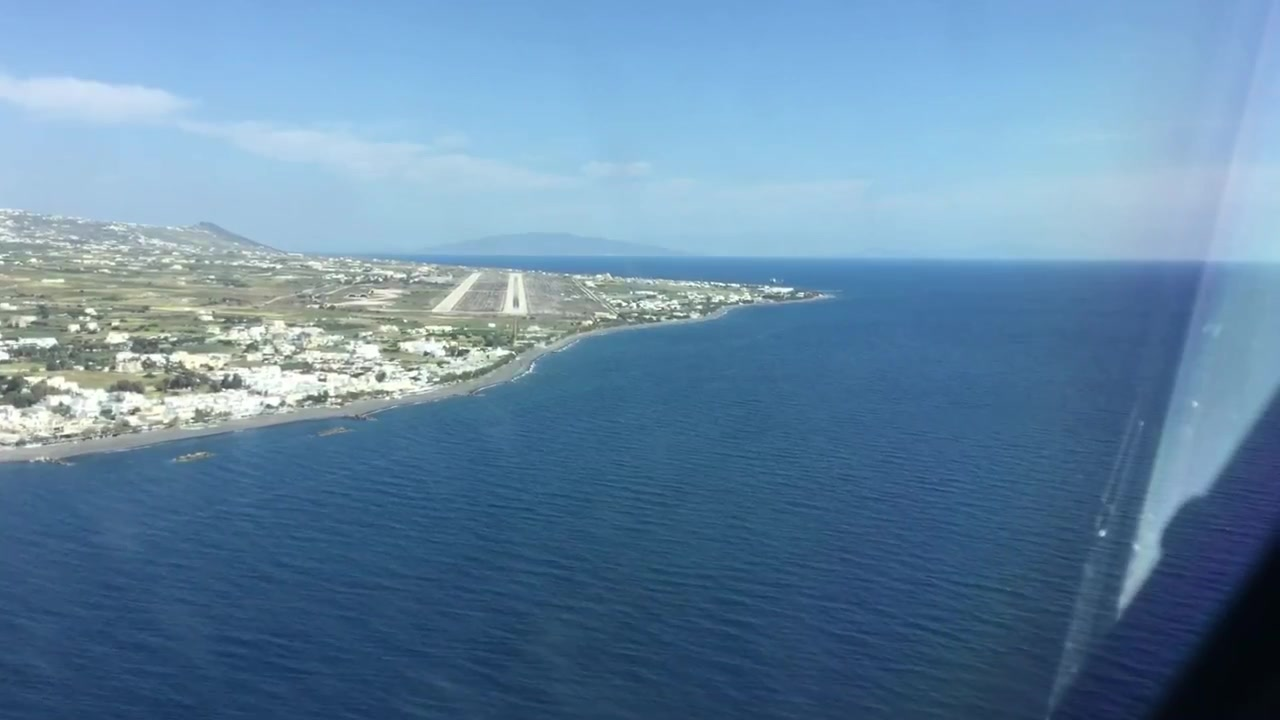runway: (430, 273, 484, 313), (501, 272, 528, 316)
